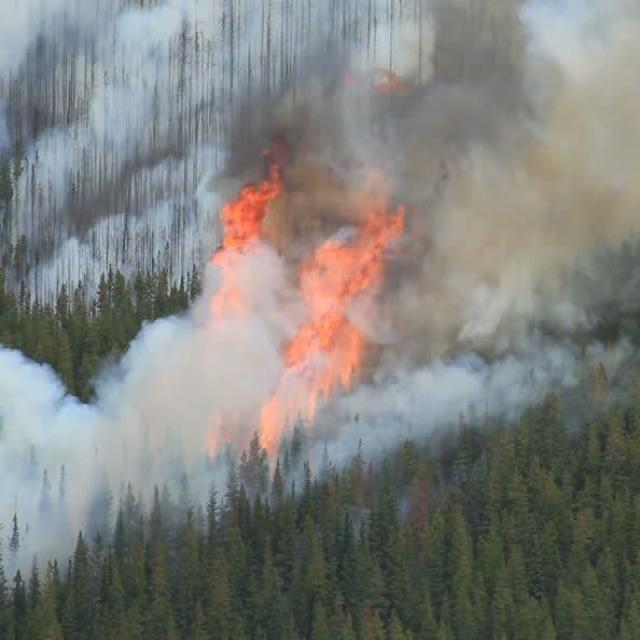Fire: (194, 178, 396, 446)
Smoke: (36, 29, 640, 568)
